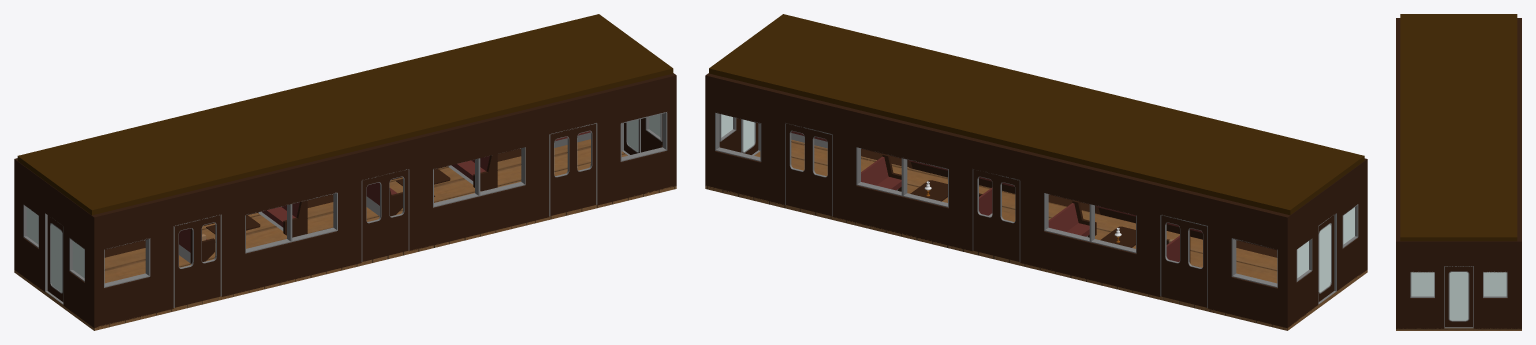
Rendered from CarruagemFinal.fbx.
3 views of the same model, side by side, from view 1: azimuth 30°, elevation 25°; view 2: azimuth 150°, elevation 25°; view 3: azimuth 270°, elevation 25° (orthographic). The views are drawn at different scales.
Parts seen in each view (by area): view 1: PAREDE, Cube.001, chao, porta2, porta1, porta3, vidroporta, オブジェクト_312, オブジェクト_304, オブジェクト_283, オブジェクト_545.003, オブジェクト_545.006 (+2 smaller); view 2: PAREDE, Cube.001, chao, porta5, porta6, porta4, vidroporta, オブジェクト_549, オブジェクト_557, オブジェクト_546.006, オブジェクト_546.003, オブジェクト_530 (+2 smaller); view 3: Cube.001, PAREDE, janeladaporta, porta, janela3, janela4, chao, moldjanporta, moldporta, moldurajanela3, moldurajanela4.
Boxes of the visible parts, x1,y1,x2,y2 form: PAREDE: (14, 73, 676, 328); Cube.001: (17, 14, 673, 215); chao: (14, 139, 676, 330); porta2: (362, 169, 408, 261); porta1: (550, 124, 596, 215); porta3: (174, 215, 220, 307); vidroporta: (51, 224, 62, 292); オブジェクト_312: (245, 192, 337, 253); オブジェクト_304: (433, 147, 525, 207); オブジェクト_283: (620, 112, 667, 161); オブジェクト_545.003: (473, 154, 497, 191); オブジェクト_545.006: (283, 200, 307, 237); PAREDE: (705, 73, 1367, 327); Cube.001: (709, 14, 1364, 215); chao: (705, 139, 1367, 330); porta5: (973, 169, 1019, 261); porta6: (1161, 215, 1207, 307); porta4: (785, 124, 831, 215); vidroporta: (1319, 224, 1330, 292); オブジェクト_549: (856, 147, 948, 207); オブジェクト_557: (1044, 193, 1136, 253); オブジェクト_546.006: (1048, 203, 1078, 231); オブジェクト_546.003: (861, 156, 888, 185); オブジェクト_530: (1231, 238, 1277, 287); Cube.001: (1400, 14, 1517, 241); PAREDE: (1396, 18, 1521, 328); janeladaporta: (1449, 272, 1468, 320); porta: (1445, 266, 1472, 327); janela3: (1483, 272, 1506, 296); janela4: (1411, 272, 1434, 296); chao: (1396, 328, 1521, 330); moldjanporta: (1448, 271, 1469, 321); moldporta: (1444, 266, 1473, 328); moldurajanela3: (1483, 271, 1507, 297); moldurajanela4: (1410, 271, 1434, 297).
Size of the model in its own units: 1706 by 332 by 406.
